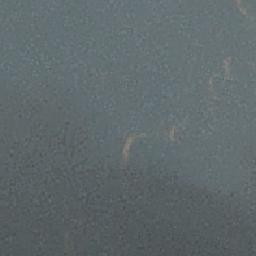debris: (123, 131, 136, 160), (166, 123, 178, 140)
